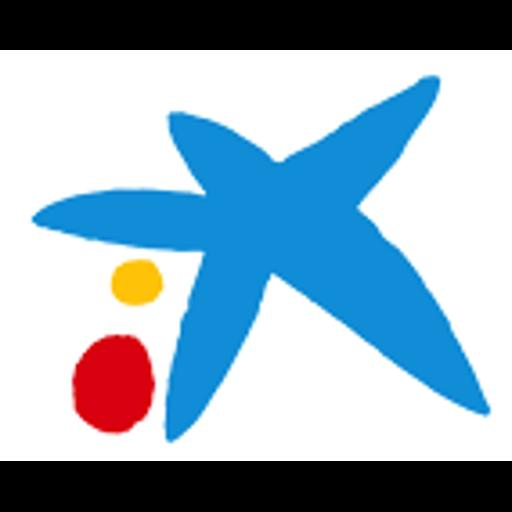CaixaBank: (0, 50, 512, 461)
